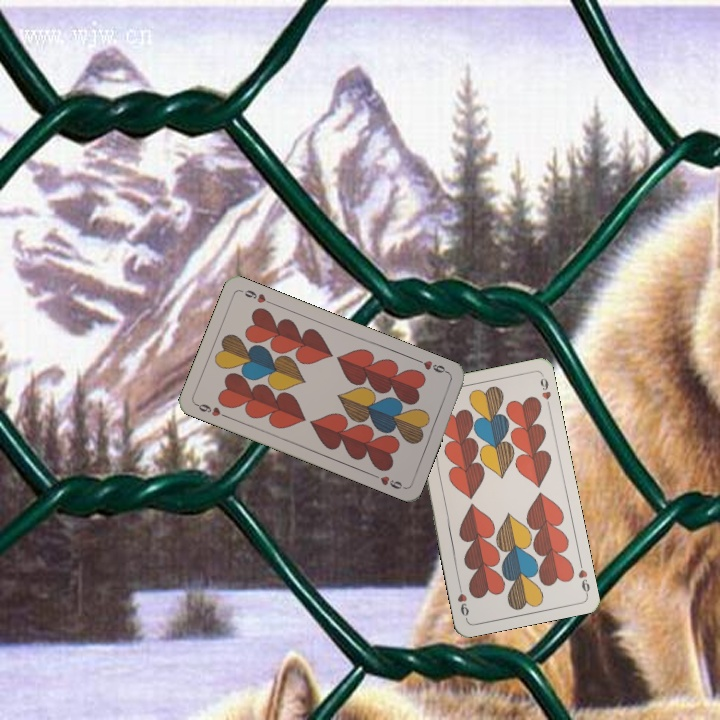H9: (192, 400, 231, 421), (413, 355, 452, 376), (574, 557, 593, 597)
